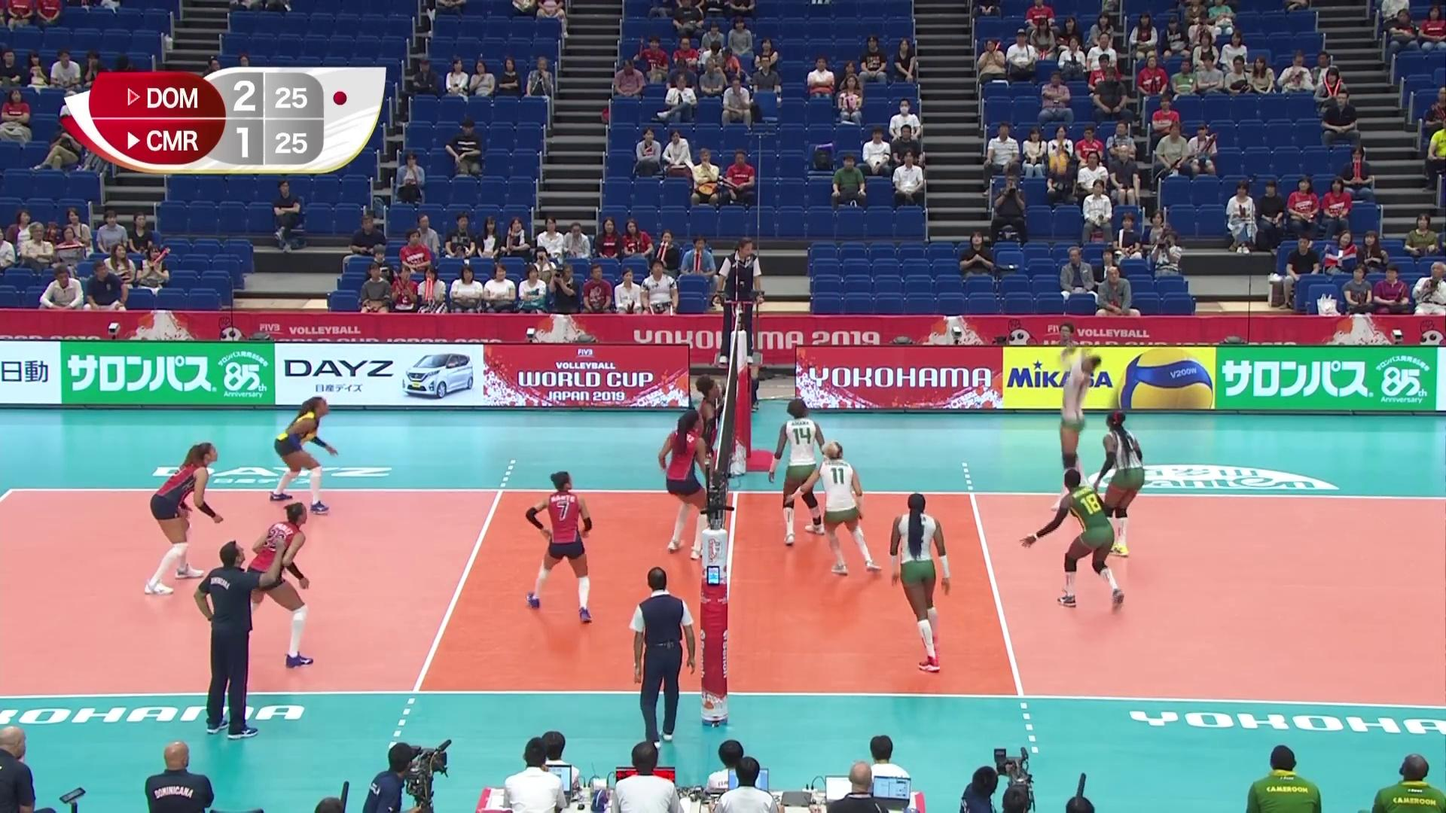player: (1023, 472, 1126, 612), (227, 504, 312, 668), (796, 442, 881, 574), (150, 441, 223, 594), (891, 491, 951, 671), (524, 471, 594, 624), (658, 413, 716, 558), (770, 403, 828, 544), (271, 397, 336, 515), (1056, 346, 1102, 510), (1093, 411, 1144, 558), (692, 378, 727, 528)
refree: (631, 568, 694, 748), (715, 237, 763, 365)
